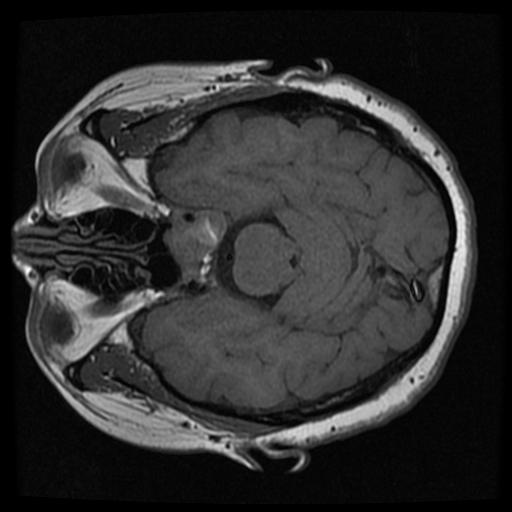pituitary tumour: (164, 214, 225, 283)
